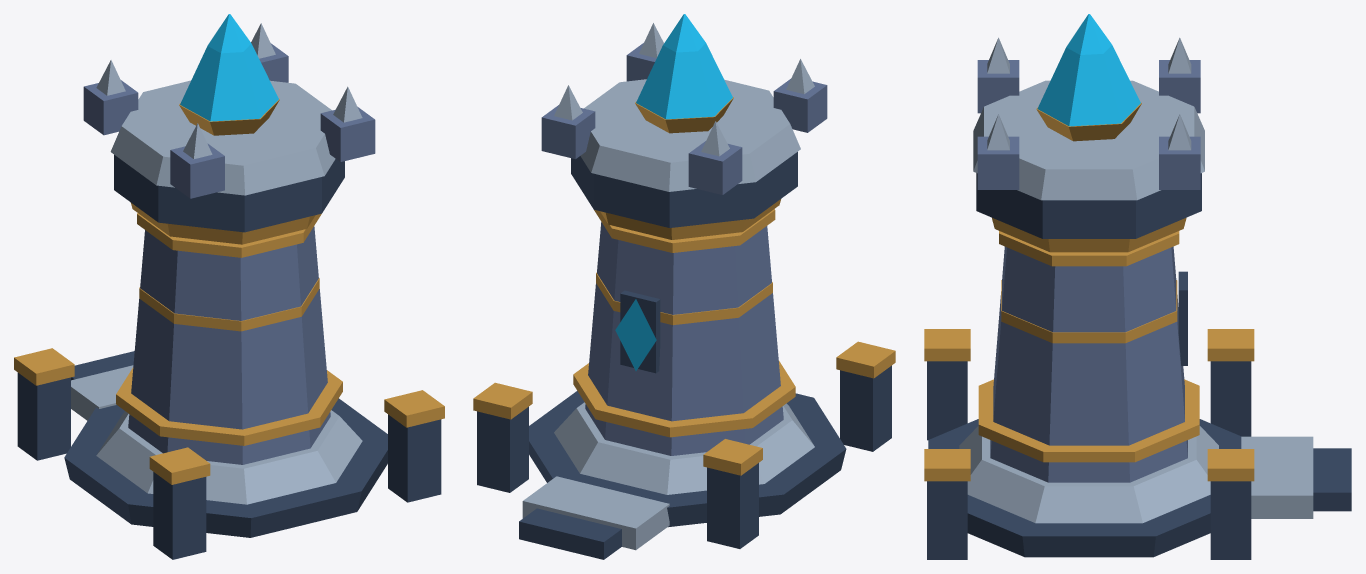
The model's file is MOBATower.obj.
3 renders of one model, left to right at view 1: azimuth 30°, elevation 25°; view 2: azimuth 150°, elevation 25°; view 3: azimuth 270°, elevation 25°, orthographic. The views are drawn at different scales.
Parts seen in each view (by area): view 1: MOBATower; view 2: MOBATower; view 3: MOBATower.
Boxes of the visible parts, left/top/right/bottom form: MOBATower: left=14, top=14, right=444, bottom=559; MOBATower: left=473, top=14, right=895, bottom=559; MOBATower: left=924, top=14, right=1351, bottom=559.
Size of the model in its own units: 2.84 by 4.53 by 3.68.
